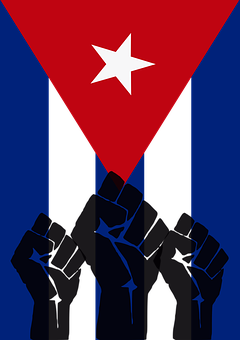fist: (93, 183, 154, 282), (23, 214, 81, 285), (168, 225, 225, 297)
